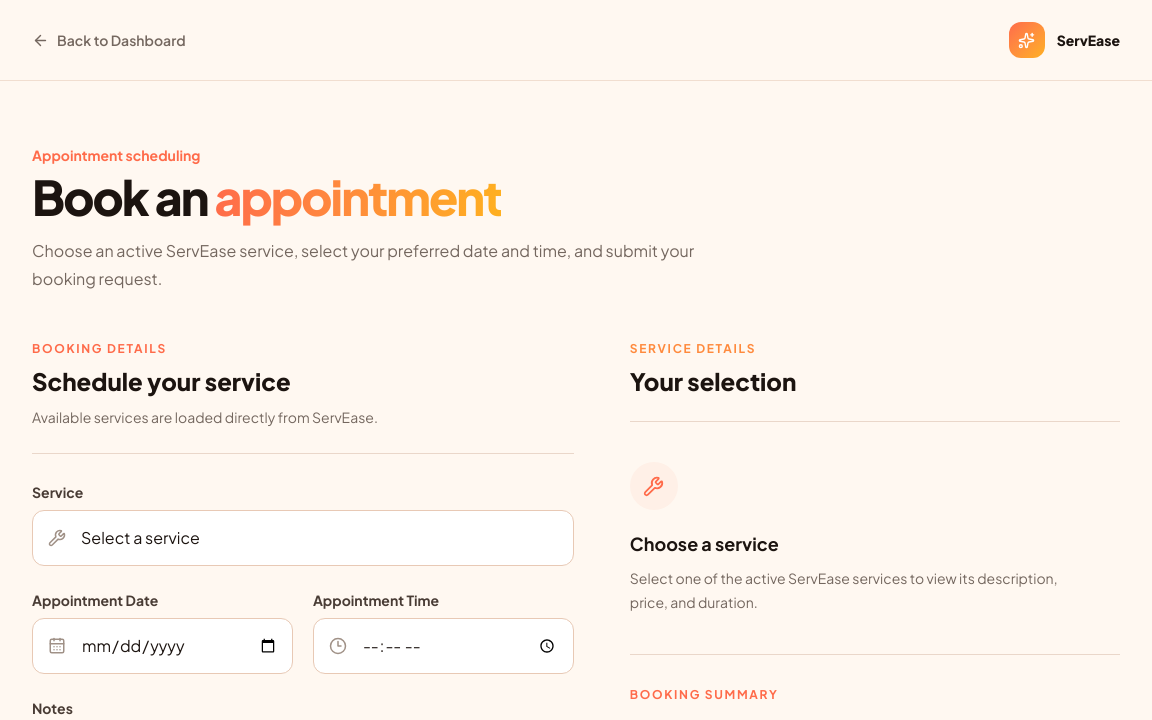
Test: Booking confirmation workflow › does not request an email when the appointment insert fails
Select "Premium Service — ₱1,000.00" in the dropdown labelled "Service" at (303, 538), box 32,510 -> 574,566
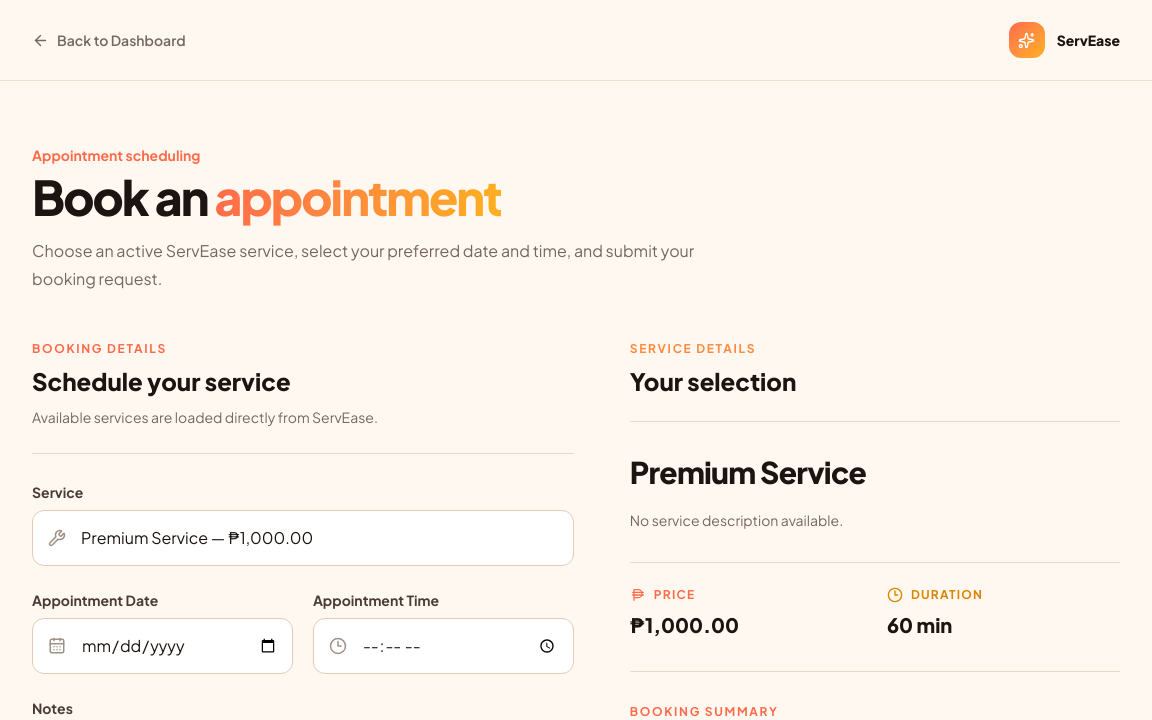
Type "2099-09-20" into the date field labelled "Appointment Date" at (162, 646), box 32,618 -> 293,674
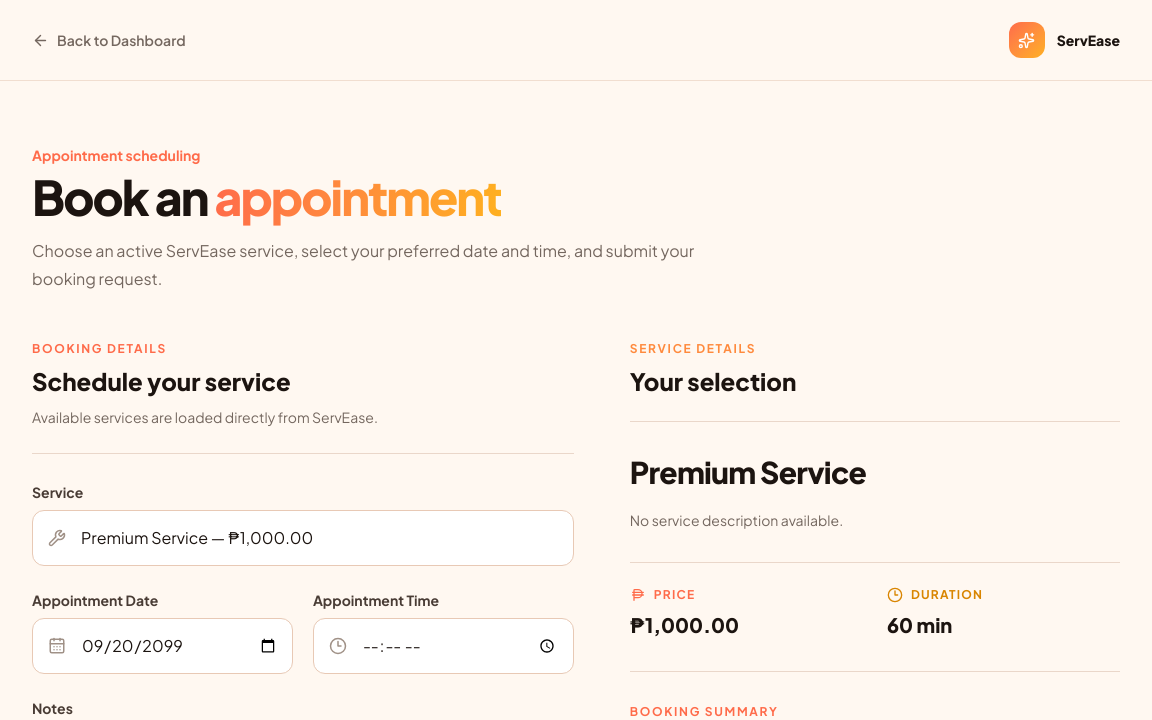
Type "10:00" into the time field labelled "Appointment Time" at (443, 646), box 313,618 -> 574,674
(page scrolled)
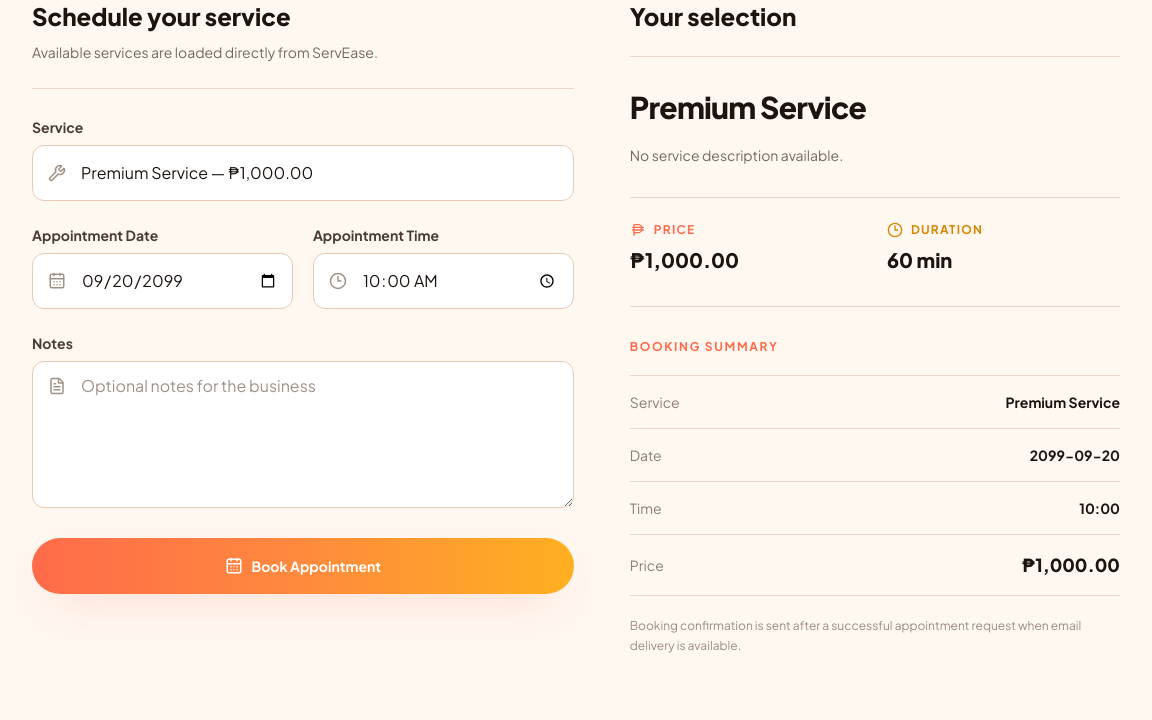
Click the button "Book Appointment" at (303, 566), box 32,538 -> 574,594
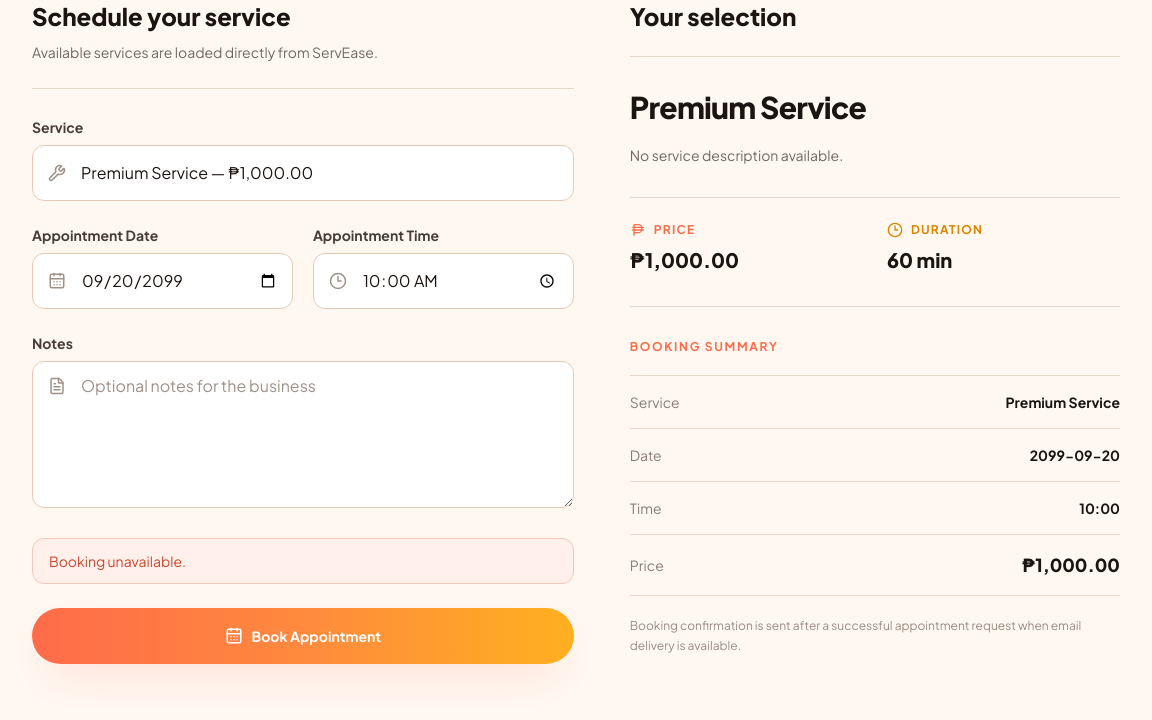
Check: the text "Booking unavailable." is shown, box 49,552 -> 186,570
